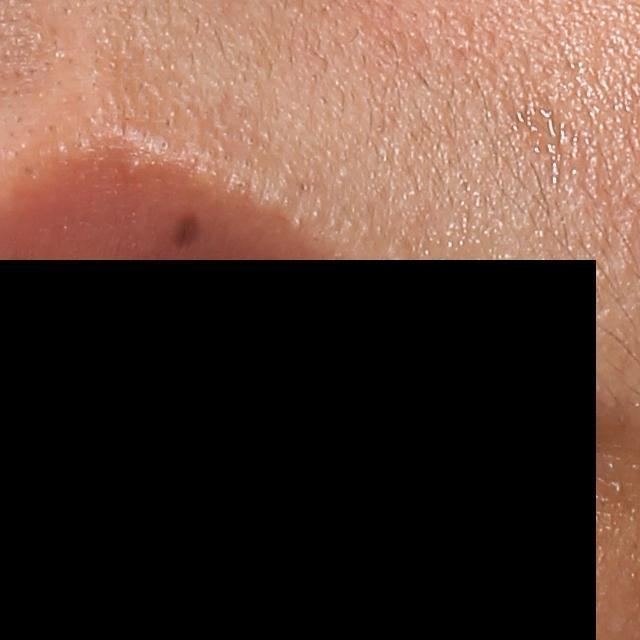nevus: (173, 215, 205, 249)
